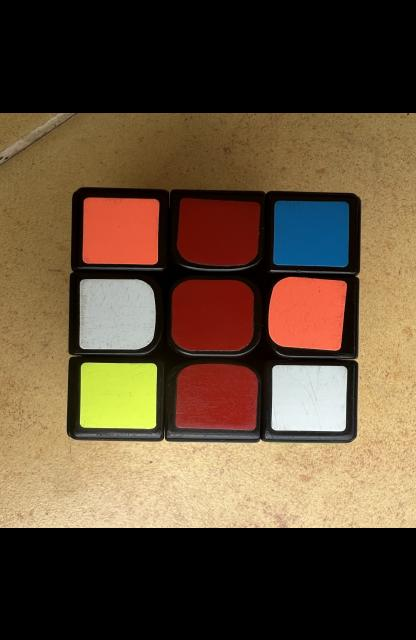Blue: (273, 200, 349, 266)
Orange: (268, 276, 347, 349), (83, 196, 159, 264)
Red: (172, 279, 254, 350), (177, 198, 260, 265), (176, 362, 258, 429)
White: (79, 278, 156, 349), (272, 363, 348, 430)
Yellow: (79, 361, 157, 428)
